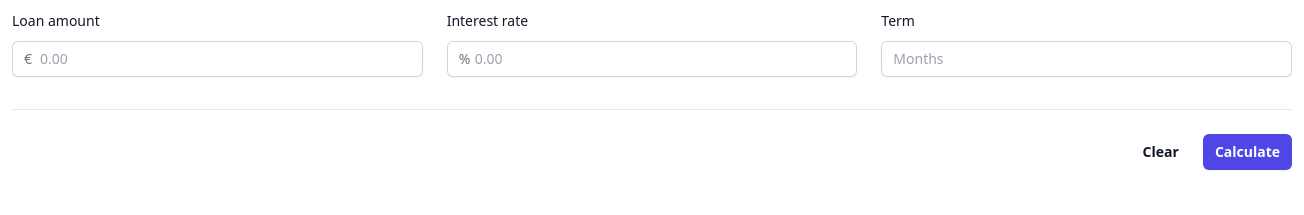
Test: LoanCalculator Component › validate negative inputs
Type "-100" into the number field labelled "Loan amount".
click(217, 59); type("-100")  # box [12,41,423,77]
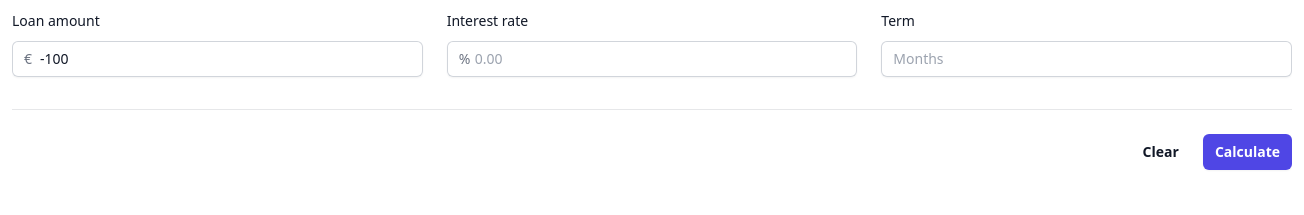
Type "-5" into the number field labelled "Interest rate".
click(652, 59); type("-5")  # box [447,41,857,77]
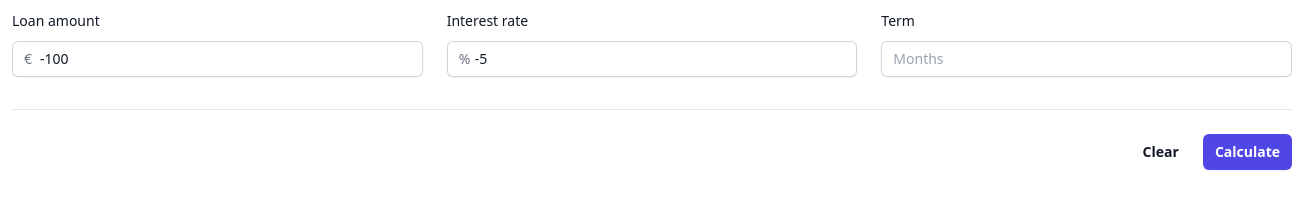
Type "-2" into the number field labelled "Term".
click(1087, 59); type("-2")  # box [881,41,1292,77]
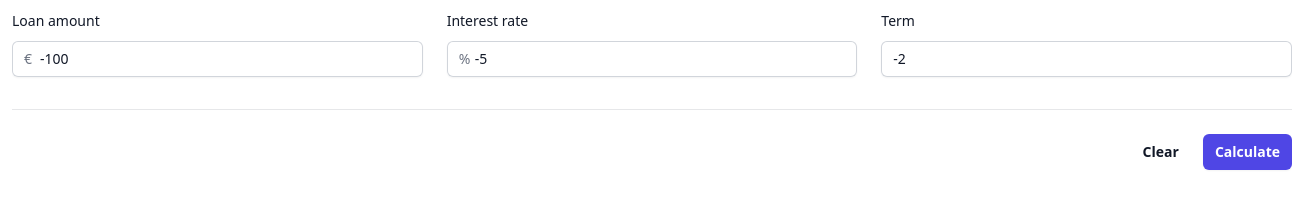
Submit the form from the button "Calculate", box [1203,134,1292,170]
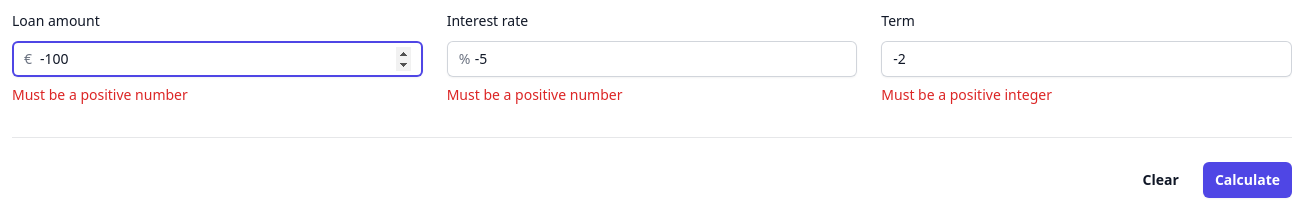
Expected: the text "Must be a positive number" is shown 2 times, [12,85,188,104]; [447,85,622,104]
Expected: the text "Must be a positive integer" is shown, [881,85,1052,104]
